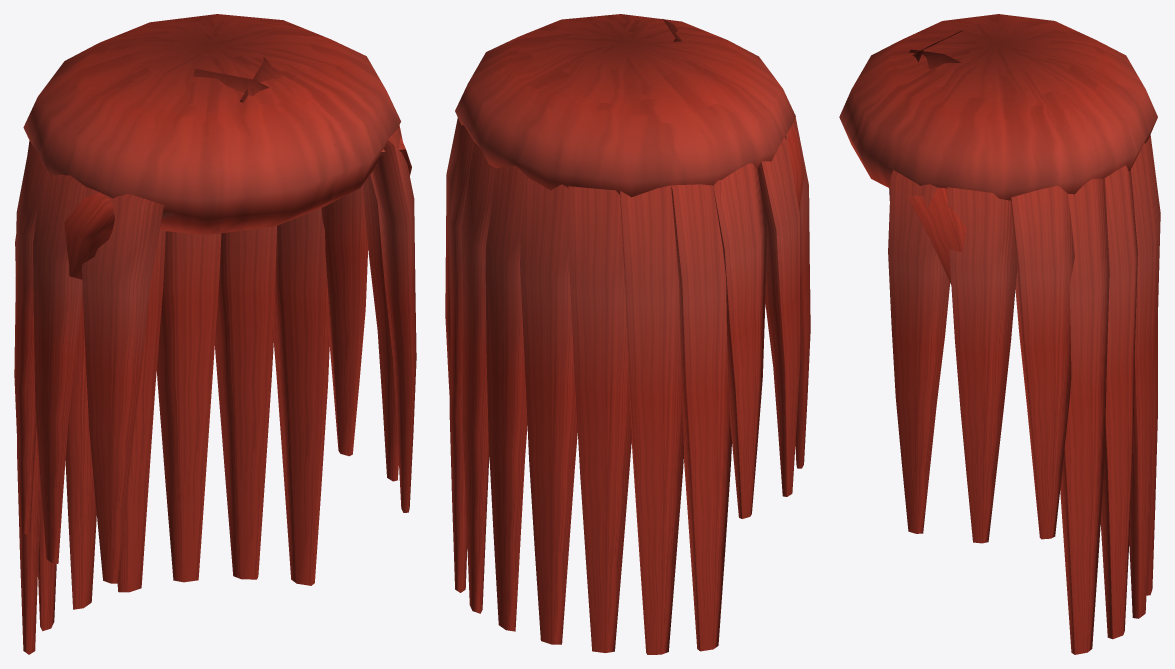
File: long_red.glb
3 views of the same model, side by side, from view 1: azimuth 30°, elevation 25°; view 2: azimuth 150°, elevation 25°; view 3: azimuth 270°, elevation 25° (orthographic). The views are drawn at different scales.
Visible parts, largest first — view 1: hair_long_red; view 2: hair_long_red; view 3: hair_long_red.
Part boxes in pixels (x1=…): hair_long_red: x1=14, y1=14, x2=416, y2=654; hair_long_red: x1=445, y1=14, x2=810, y2=654; hair_long_red: x1=839, y1=14, x2=1160, y2=654.
Size of the model in its own units: 1.5 by 2.42 by 1.29.
1 material, 1 textured.
